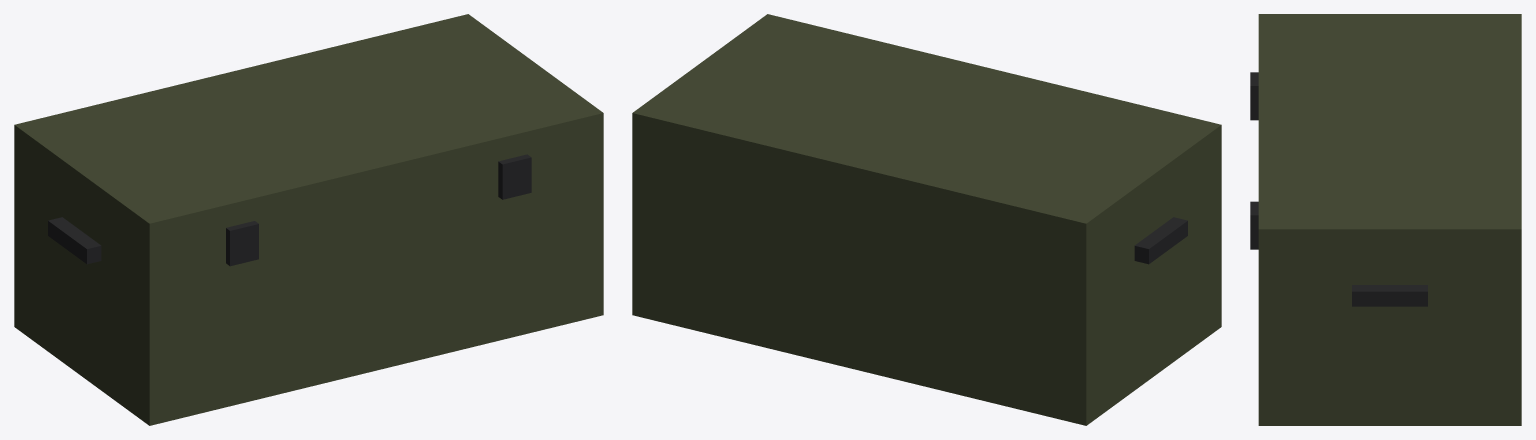
Rendered from crate_long.glb.
The picture shows the model from 3 angles, left to right: view 1: azimuth 30°, elevation 25°; view 2: azimuth 150°, elevation 25°; view 3: azimuth 270°, elevation 25°; orthographic projection. The views are drawn at different scales.
Visible parts, largest first — view 1: CrateLong_Body, CrateLong_Lid; view 2: CrateLong_Body, CrateLong_Lid; view 3: CrateLong_Lid, CrateLong_Body.
Part boxes in pixels (bbox=[...]): CrateLong_Body: bbox=[14, 153, 603, 425]; CrateLong_Lid: bbox=[14, 14, 603, 263]; CrateLong_Body: bbox=[632, 153, 1221, 425]; CrateLong_Lid: bbox=[632, 14, 1221, 263]; CrateLong_Lid: bbox=[1258, 14, 1521, 268]; CrateLong_Body: bbox=[1250, 72, 1521, 425].
Bounding box in the file's own units: 1 × 0.4 × 0.5.
